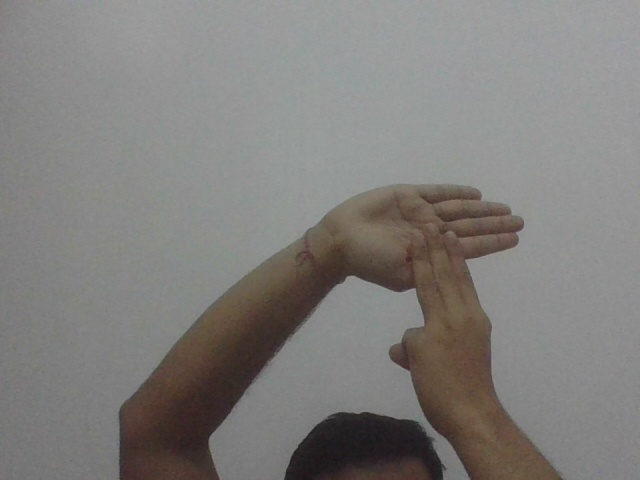M: (334, 180, 530, 332)
